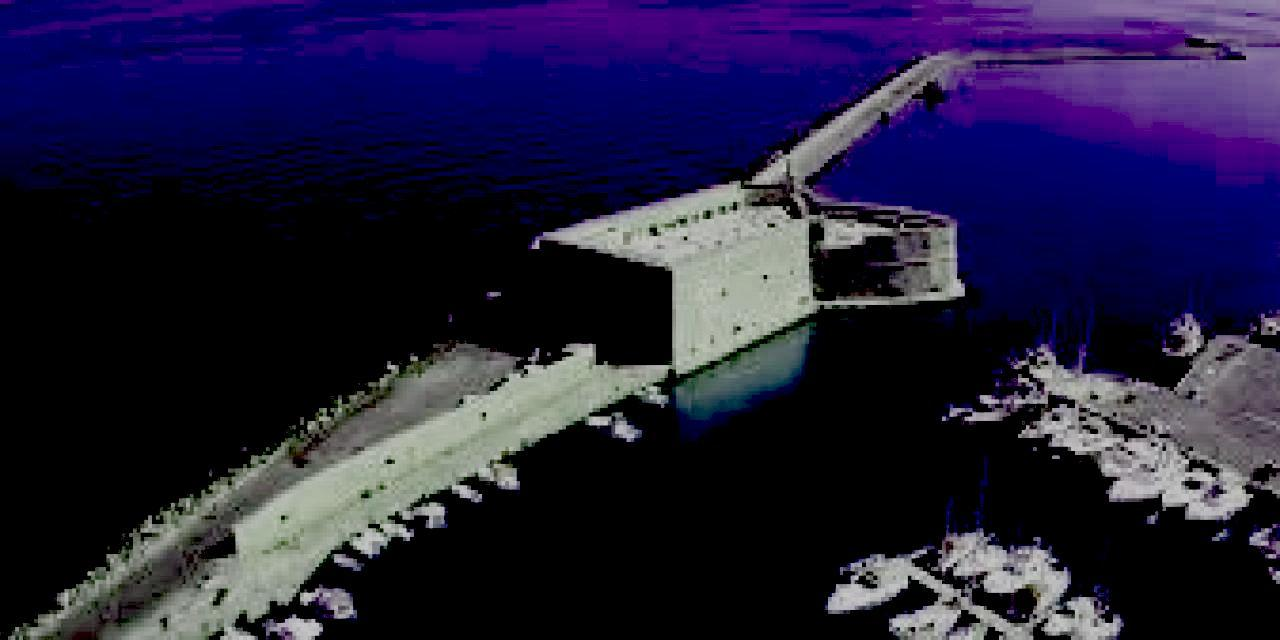Kules: (526, 180, 969, 382)
